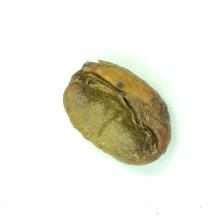NG: (90, 94, 173, 166), (61, 61, 127, 128)
